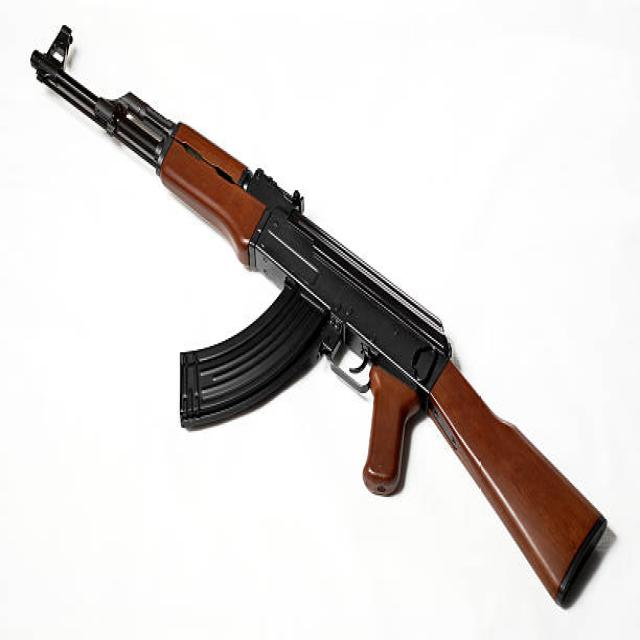rifle: (23, 10, 613, 616)
